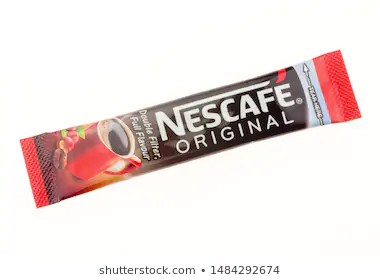nescafe-caffe: (21, 48, 359, 210)
